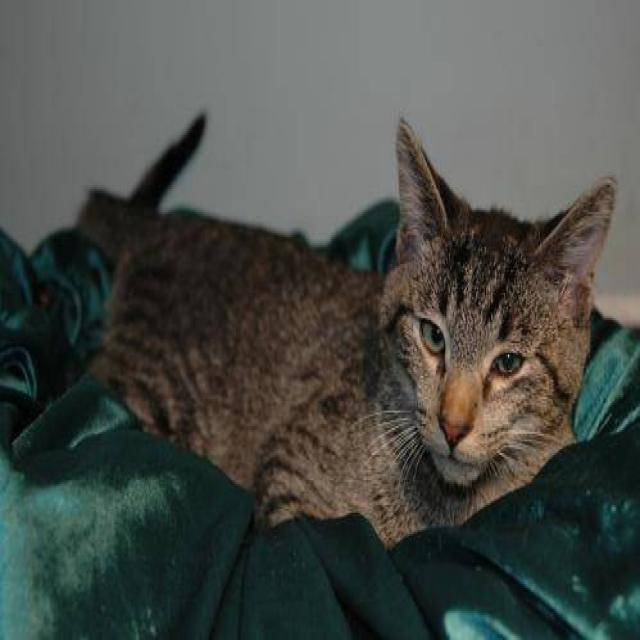cat: (74, 110, 617, 549)
